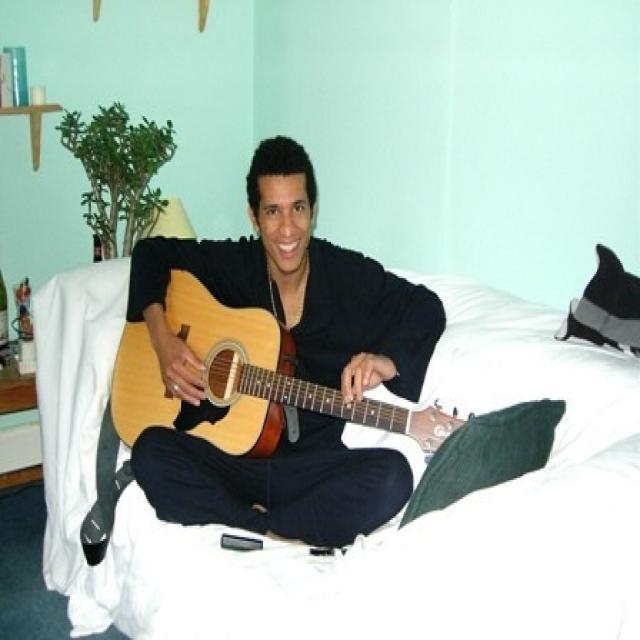guitar: (110, 269, 472, 456)
